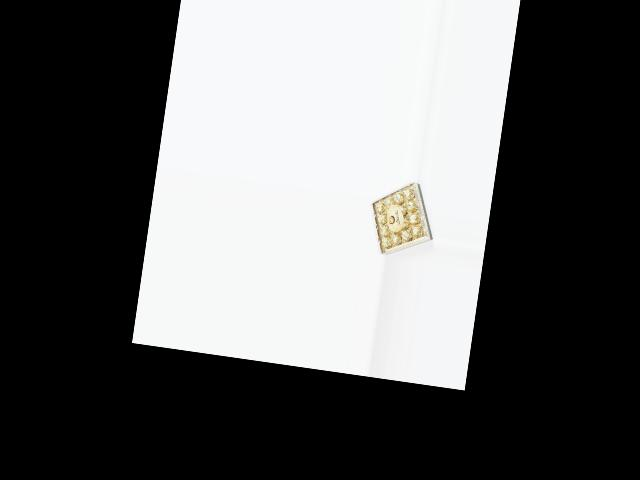chocolate: (363, 175, 442, 262)
